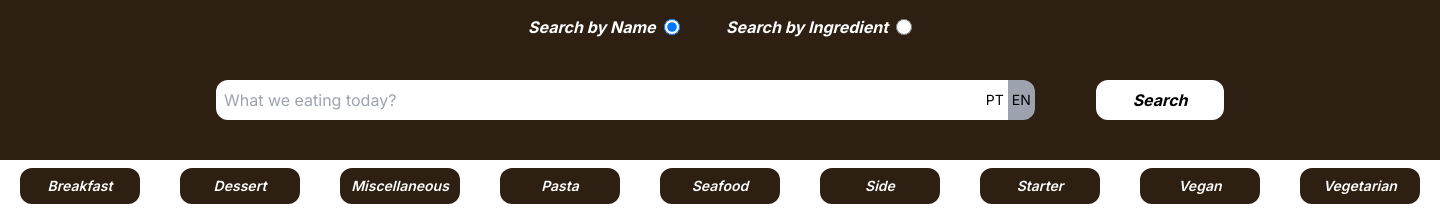
Scenario: Header Tests: › Search option input: should change the checked input on click
Step 1. Click the radio button labelled "Search by Ingredient" → (904, 27), box [896,19,912,35]
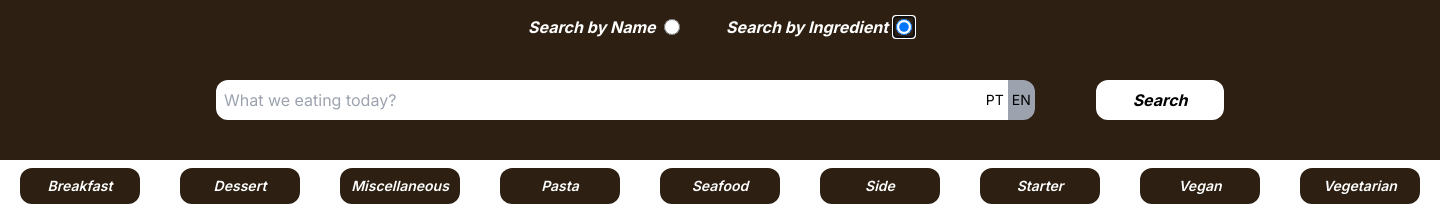
Expected: the radio button labelled "Search by Ingredient" is checked, [896,19,912,35]
Expected: the radio button labelled "Search by Name" is not checked, [664,19,680,35]
